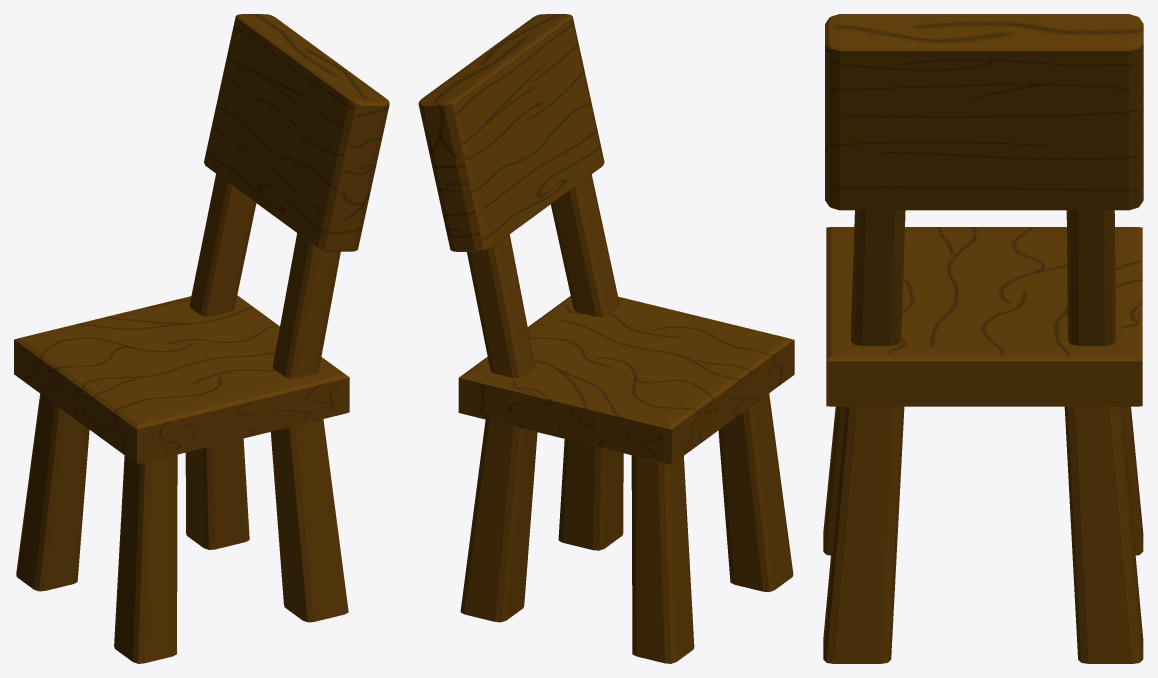
Rendered from cadeira.fbx.
3 renders of one model, left to right at view 1: azimuth 30°, elevation 25°; view 2: azimuth 150°, elevation 25°; view 3: azimuth 270°, elevation 25°, orthographic. The views are drawn at different scales.
Visible parts, largest first — view 1: Cube; view 2: Cube; view 3: Cube.
Boxes of the visible parts, <box> form: Cube: <box>14,14,389,663</box>; Cube: <box>418,14,794,663</box>; Cube: <box>823,14,1143,663</box>.
Bounding box in the file's own units: 240 × 454 × 201.
1 material, 1 textured.
